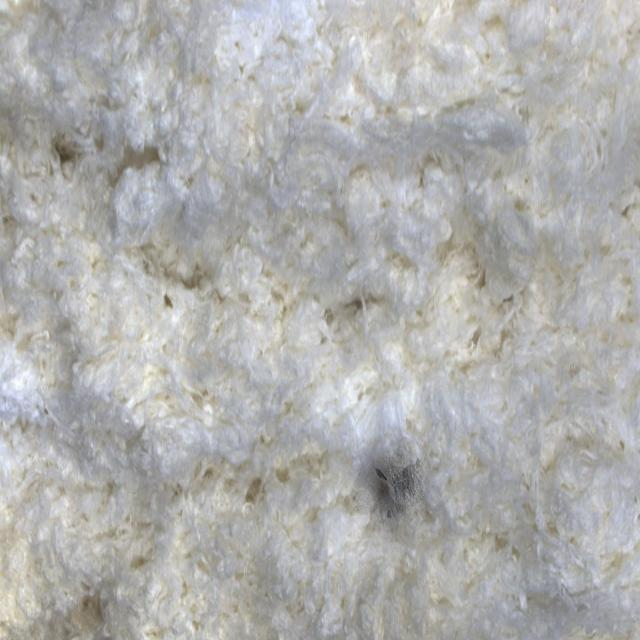dust: (312, 405, 455, 551)
